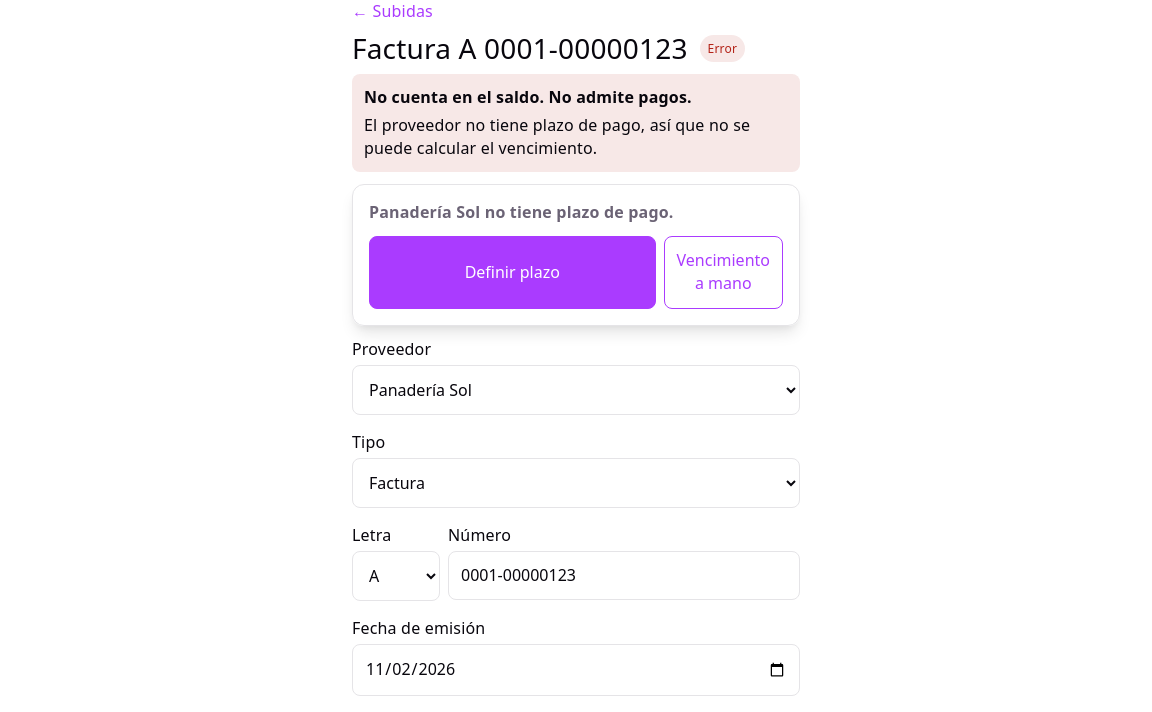
Scenario: Documento › shows the term saved from Definir plazo on the same screen
The width and height of the screenshot is (1152, 712).
Expected: the text "Panadería Sol no tiene plazo de pago." is shown, left=369, top=201, right=674, bottom=223
Click the button "Definir plazo" at (512,272), box left=369, top=236, right=656, bottom=309
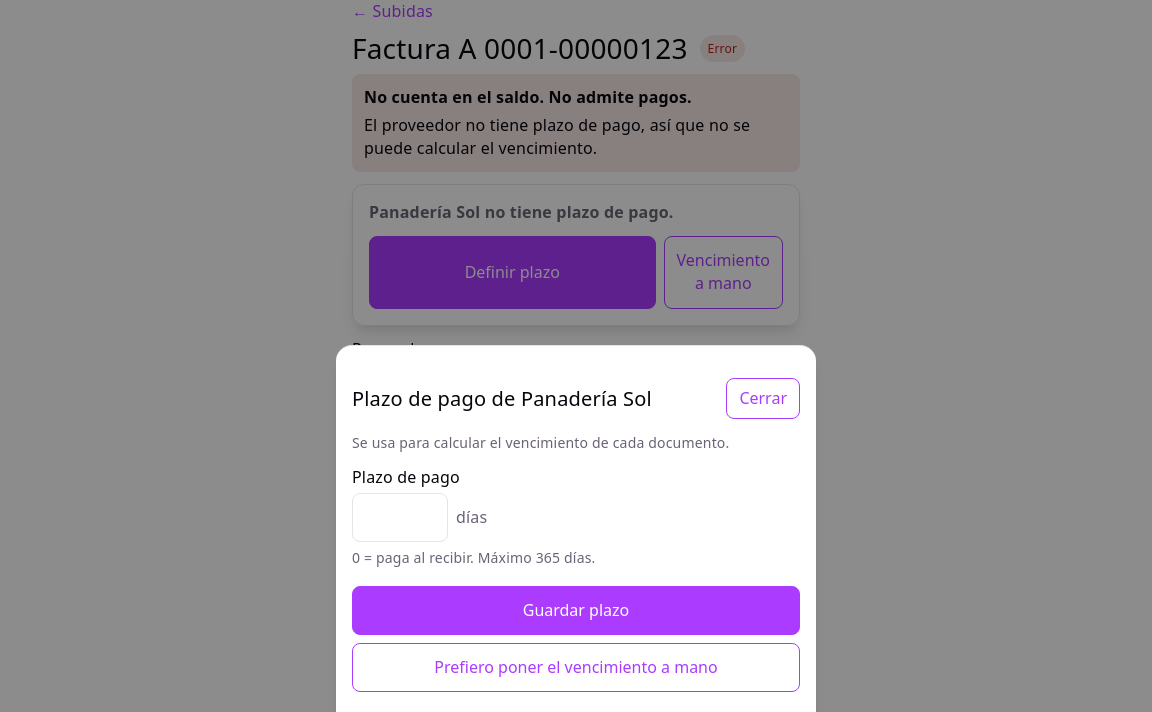
Type "30" into the field labelled "Plazo de pago" at (400,518), box left=352, top=493, right=448, bottom=542
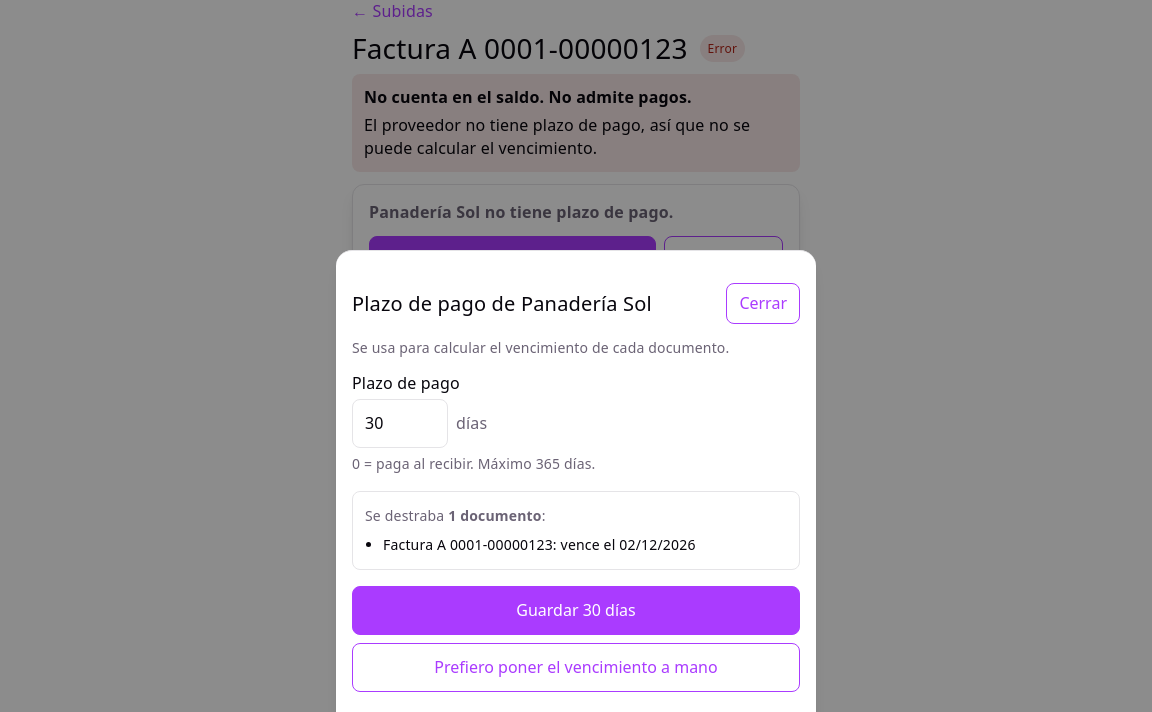
Expected: the list item "Factura A 0001-00000123: vence el 02/12/2026" is shown, left=383, top=535, right=696, bottom=554
Click the button "Guardar 30 días" at (576,610), box left=352, top=586, right=800, bottom=635
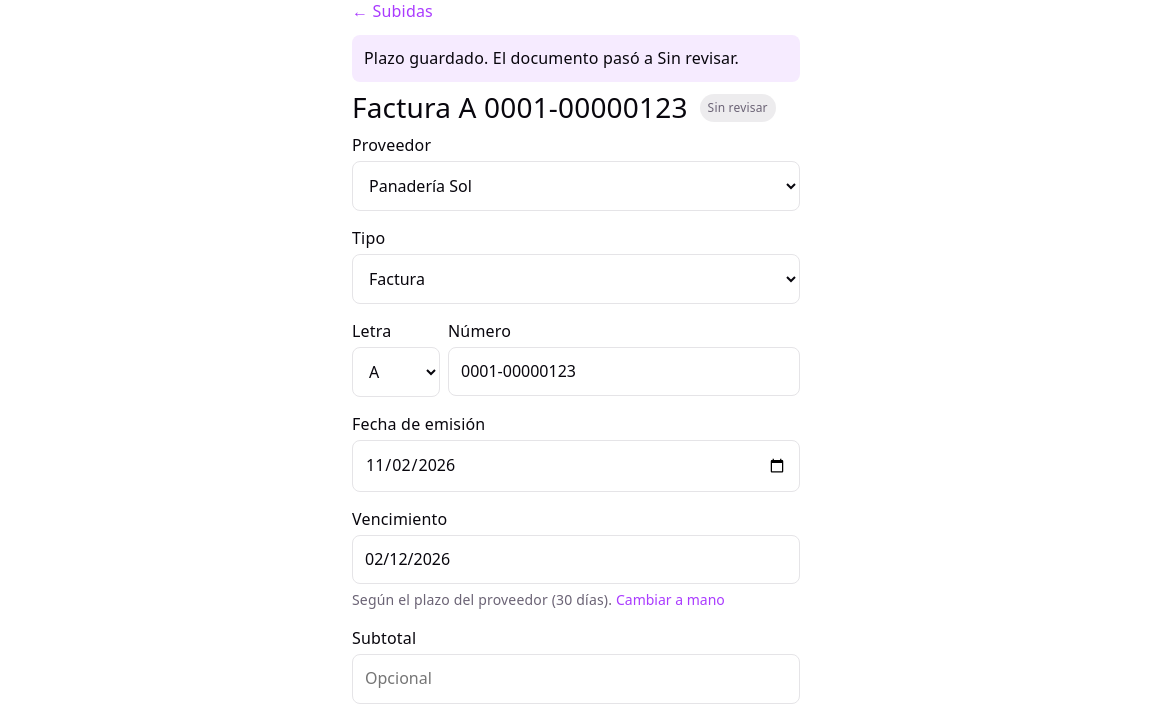
Expected: the text "Plazo guardado. El documento pasó a Sin revisar." is shown, left=352, top=35, right=800, bottom=82
Expected: the text "Según el plazo del proveedor (30 días)." is shown, left=352, top=588, right=725, bottom=611
Expected: the field labelled "Vencimiento" holds "02/12/2026", left=352, top=535, right=800, bottom=584
